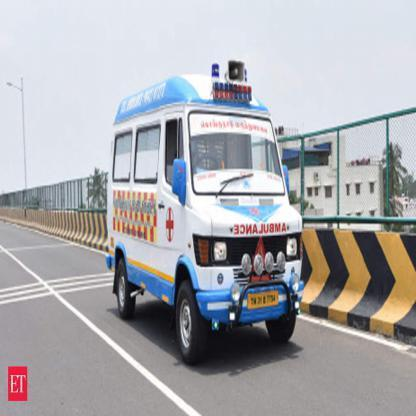Ambulance: (228, 218, 294, 239)
